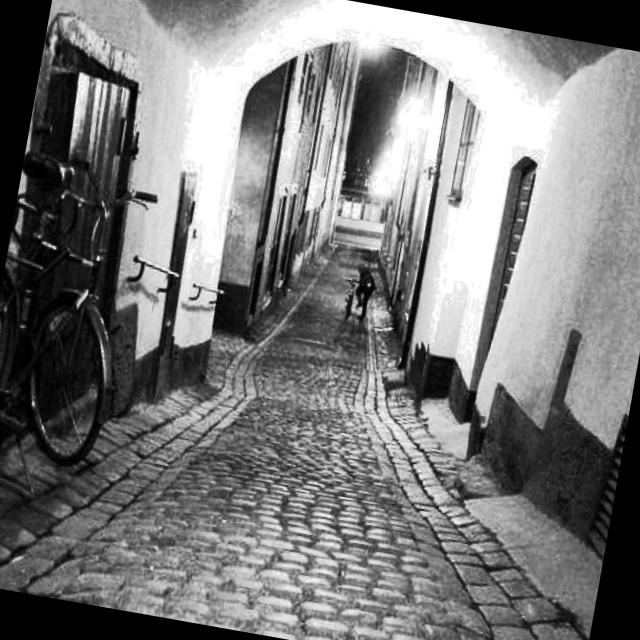Bicycle: (0, 114, 175, 519)
Person: (340, 235, 390, 322)
